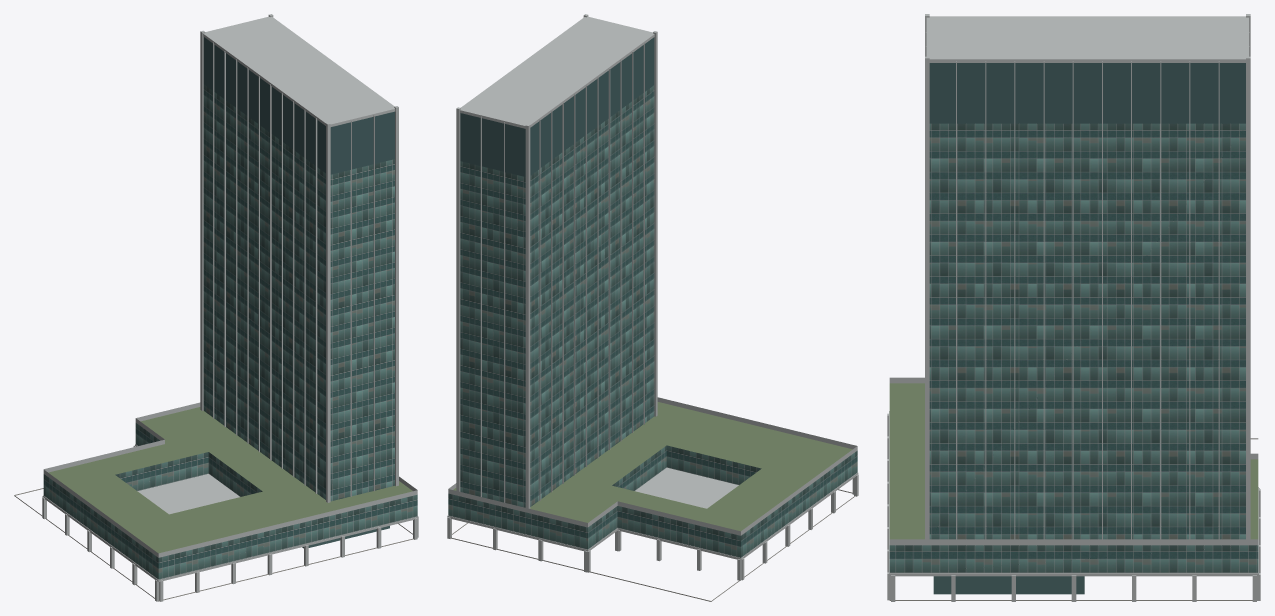
Rendered from lever_house.glb.
The picture shows the model from 3 angles, left to right: view 1: azimuth 30°, elevation 25°; view 2: azimuth 150°, elevation 25°; view 3: azimuth 270°, elevation 25°; orthographic projection. The views are drawn at different scales.
Parts seen in each view (by area): view 1: lever_house; view 2: lever_house; view 3: lever_house.
Part boxes in pixels (box(x1,y1,x2,y2)): lever_house: box(14, 14, 418, 601); lever_house: box(447, 14, 858, 601); lever_house: box(887, 14, 1260, 601).
Size of the model in its own units: 61.5 by 94.6 by 59.31.
2 materials, 2 textured.
